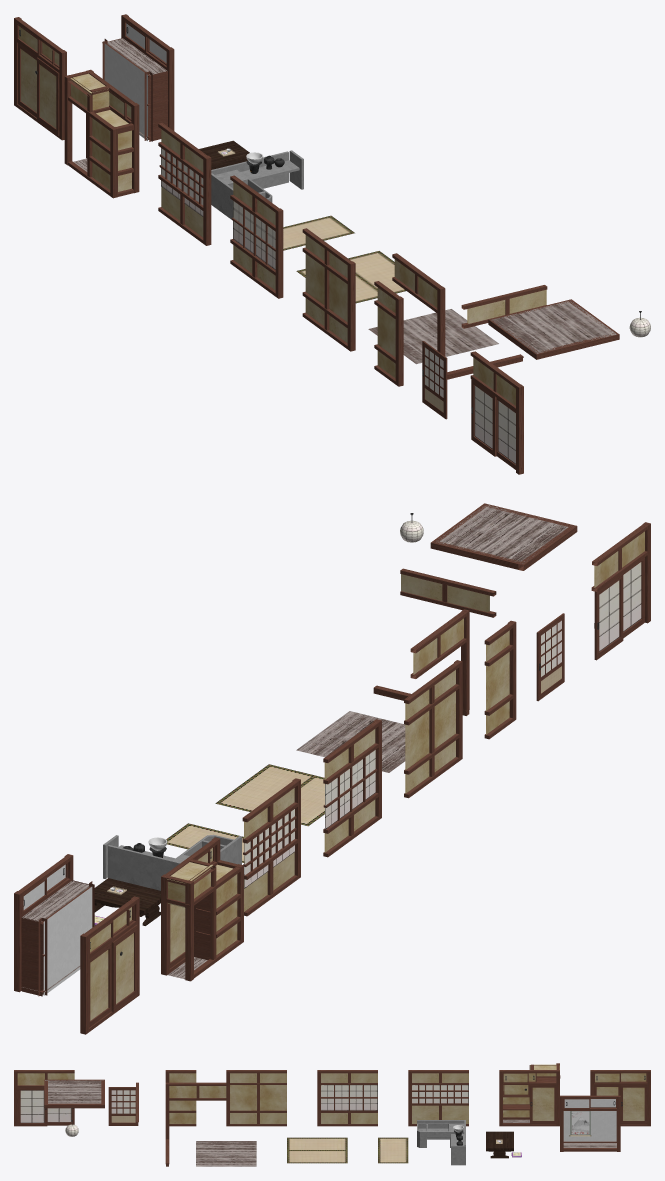
Rendered from machiya_kit.glb.
3 views of the same model, one above another, from view 1: azimuth 30°, elevation 25°; view 2: azimuth 150°, elevation 25°; view 3: azimuth 270°, elevation 25° (orthographic). The views are drawn at different scales.
Visible parts, largest first — view 1: SM_wardrobe, SM_displayWall, SM_windowWallHigh, SM_windowWall, SM_wall, SM_wardrobeClosed, SM_ceiling, SM_kitchenBench, SM_floor, SM_wallHalf, SM_doorWall, SM_SeparatorL (+7 smaller); view 2: SM_wardrobe, SM_displayWall, SM_wardrobeClosed, SM_wall, SM_windowWall, SM_windowWallHigh, SM_ceiling, SM_kitchenBench, SM_wallHalf, SM_tatami, SM_floor, SM_SeparatorH (+7 smaller); view 3: SM_wardrobe, SM_wall, SM_windowWall, SM_windowWallHigh, SM_displayWall, SM_wardrobeClosed, SM_ceiling, SM_tatami, SM_floor, SM_SeparatorL, SM_kitchenBench, SM_wallHalf (+7 smaller).
Boxes of the visible parts, bbox=[...] form: SM_wardrobe: bbox=[64, 69, 139, 198]; SM_displayWall: bbox=[102, 14, 174, 141]; SM_windowWallHigh: bbox=[158, 122, 211, 245]; SM_windowWall: bbox=[230, 175, 283, 298]; SM_wall: bbox=[302, 228, 355, 351]; SM_wardrobeClosed: bbox=[14, 17, 66, 140]; SM_ceiling: bbox=[488, 299, 619, 359]; SM_kitchenBench: bbox=[211, 150, 303, 220]; SM_floor: bbox=[368, 309, 498, 364]; SM_wallHalf: bbox=[374, 281, 403, 386]; SM_doorWall: bbox=[470, 351, 523, 474]; SM_SeparatorL: bbox=[392, 253, 445, 355]; SM_wardrobe: bbox=[161, 837, 243, 981]; SM_displayWall: bbox=[14, 854, 94, 996]; SM_wardrobeClosed: bbox=[80, 896, 139, 1034]; SM_wall: bbox=[404, 660, 462, 798]; SM_windowWall: bbox=[323, 719, 381, 857]; SM_windowWallHigh: bbox=[242, 778, 300, 916]; SM_ceiling: bbox=[430, 503, 577, 570]; SM_kitchenBench: bbox=[103, 834, 241, 890]; SM_wallHalf: bbox=[484, 620, 516, 739]; SM_tatami: bbox=[215, 764, 324, 826]; SM_floor: bbox=[296, 711, 405, 772]; SM_SeparatorH: bbox=[400, 568, 496, 617]; SM_wardrobe: bbox=[499, 1063, 560, 1126]; SM_wall: bbox=[226, 1070, 286, 1126]; SM_windowWall: bbox=[317, 1070, 377, 1126]; SM_windowWallHigh: bbox=[408, 1070, 468, 1126]; SM_displayWall: bbox=[560, 1095, 620, 1151]; SM_wardrobeClosed: bbox=[590, 1070, 650, 1126]; SM_ceiling: bbox=[44, 1079, 104, 1108]; SM_tatami: bbox=[287, 1137, 347, 1163]; SM_floor: bbox=[196, 1141, 256, 1166]; SM_SeparatorL: bbox=[165, 1082, 226, 1139]; SM_kitchenBench: bbox=[417, 1120, 465, 1165]; SM_wallHalf: bbox=[165, 1070, 196, 1126].
Size of the model in its own units: 0.0238 by 0.0112 by 0.105.
Materials: 6 (5 with a texture image).
